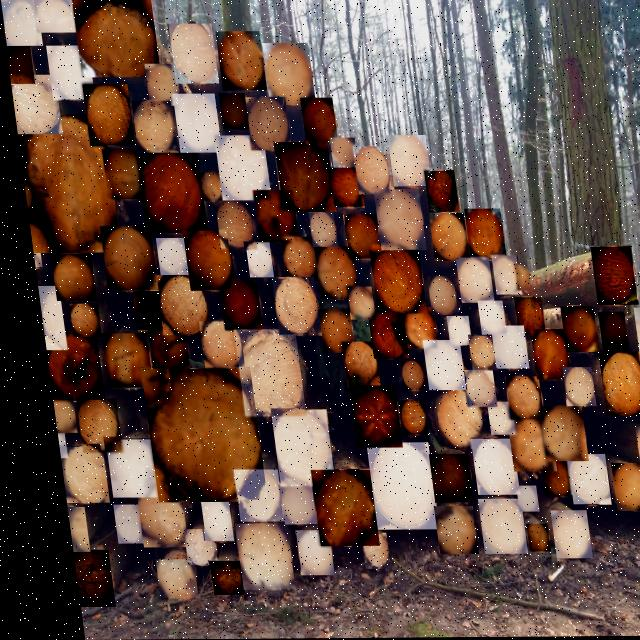wood-log: (138, 369, 249, 502), (17, 115, 111, 252), (76, 0, 156, 77), (359, 443, 422, 530), (229, 330, 292, 416), (137, 153, 198, 233), (301, 470, 361, 546), (263, 411, 320, 487), (273, 142, 328, 212), (38, 333, 91, 400), (224, 525, 278, 589), (365, 247, 416, 314), (213, 136, 263, 201), (97, 227, 148, 290), (82, 85, 129, 146), (264, 44, 311, 105), (341, 387, 388, 448), (96, 440, 145, 498), (592, 353, 637, 416), (151, 275, 198, 335), (125, 487, 171, 547), (170, 24, 216, 84), (9, 75, 55, 134), (372, 190, 417, 250), (180, 232, 226, 289), (217, 32, 262, 90), (49, 447, 95, 503), (172, 94, 216, 152), (427, 391, 470, 450), (267, 278, 310, 335), (95, 334, 141, 387), (466, 499, 510, 554), (461, 440, 504, 496), (587, 248, 627, 306), (47, 46, 90, 99), (499, 419, 542, 472), (531, 407, 572, 462), (67, 399, 108, 452), (224, 471, 267, 521), (245, 98, 285, 151), (59, 550, 96, 607), (132, 102, 172, 154), (251, 191, 291, 242), (309, 248, 348, 298), (386, 136, 425, 186), (415, 341, 454, 391), (556, 455, 595, 505), (46, 254, 87, 301), (193, 322, 233, 370), (100, 150, 139, 198), (422, 507, 461, 555), (140, 325, 178, 374), (420, 455, 458, 503), (523, 330, 559, 380), (213, 282, 251, 329), (538, 511, 575, 559), (461, 210, 497, 259), (212, 201, 248, 249), (361, 311, 397, 359), (352, 147, 387, 195), (425, 214, 460, 262), (4, 0, 40, 46), (600, 464, 634, 512), (33, 286, 58, 350), (283, 531, 317, 576), (450, 258, 484, 303), (554, 307, 587, 353), (300, 99, 333, 144), (497, 377, 531, 420), (334, 343, 368, 385), (276, 238, 309, 281), (142, 560, 180, 597), (484, 327, 518, 368), (340, 216, 373, 258), (312, 310, 344, 353), (36, 0, 76, 33), (269, 484, 301, 525), (395, 308, 427, 349), (421, 172, 452, 213), (145, 64, 175, 106), (530, 457, 559, 496), (327, 169, 357, 206), (195, 561, 227, 595), (170, 530, 201, 565), (591, 313, 618, 353), (150, 238, 179, 275), (555, 369, 584, 406), (456, 371, 485, 407), (128, 292, 156, 329), (507, 298, 535, 335), (421, 277, 448, 315), (486, 256, 512, 295), (190, 503, 217, 540), (102, 505, 127, 543), (217, 94, 244, 129), (304, 212, 330, 247), (63, 305, 91, 337), (348, 534, 374, 568), (389, 401, 415, 435), (240, 243, 265, 278), (8, 47, 32, 83), (56, 508, 75, 552), (461, 337, 487, 369), (478, 402, 503, 435), (471, 302, 496, 334), (42, 398, 64, 433), (342, 288, 366, 320), (327, 139, 352, 166), (439, 317, 462, 345), (197, 173, 219, 201), (626, 428, 640, 471), (392, 363, 414, 390), (513, 525, 534, 552), (503, 486, 524, 512), (26, 224, 35, 266), (511, 267, 522, 291), (46, 432, 54, 458)
